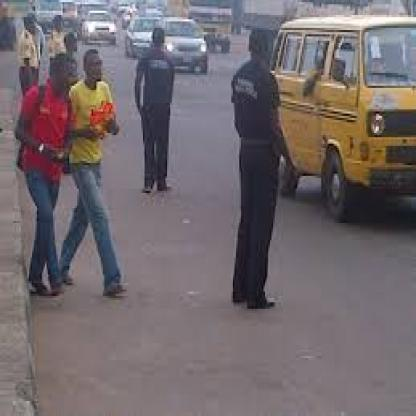car: (268, 0, 416, 217), (156, 10, 211, 78), (124, 12, 170, 57), (80, 5, 120, 54)
